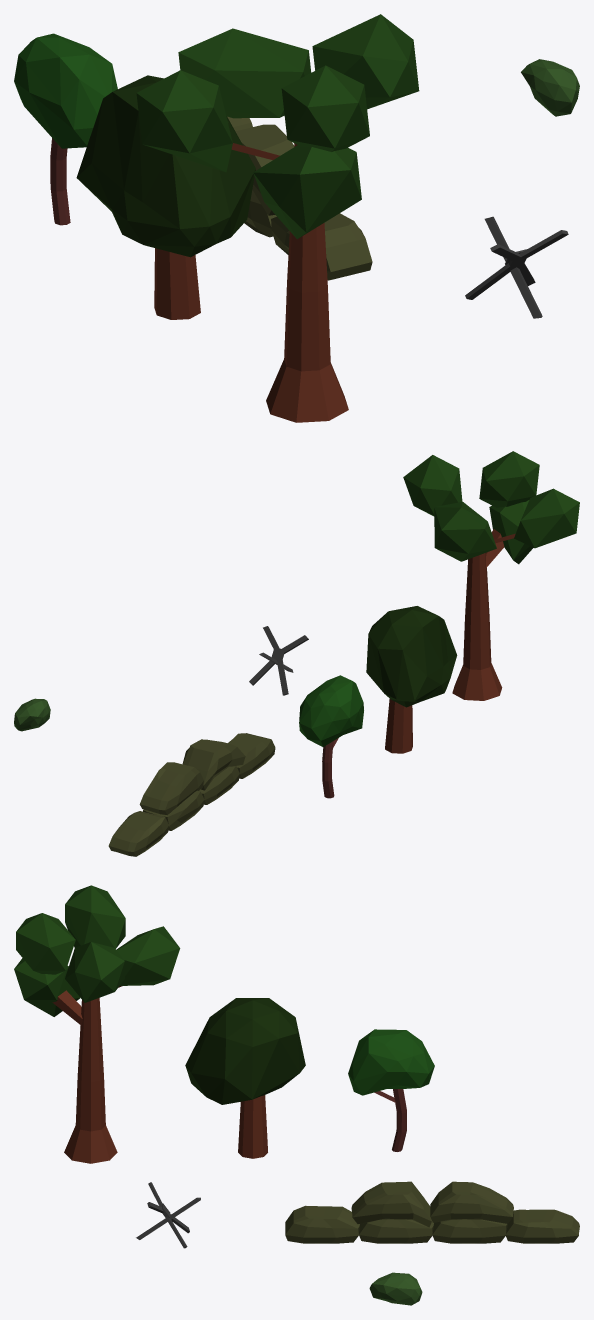
File: enviroo.fbx
3 views of the same model, one above another, from view 1: azimuth 30°, elevation 25°; view 2: azimuth 150°, elevation 25°; view 3: azimuth 270°, elevation 25° (orthographic). The views are drawn at different scales.
Parts seen in each view (by area): view 1: tree3, tree2, tree1, bag with sand, jezyk, krzak; view 2: tree3, bag with sand, tree2, tree1, jezyk, krzak; view 3: tree3, bag with sand, tree2, tree1, krzak, jezyk.
Part boxes in pixels (x1=…): tree3: x1=136, y1=14, x2=419, y2=422; tree2: x1=76, y1=75, x2=255, y2=319; tree1: x1=14, y1=33, x2=117, y2=225; bag with sand: x1=227, y1=116, x2=372, y2=280; jezyk: x1=465, y1=216, x2=568, y2=318; krzak: x1=521, y1=59, x2=579, y2=116; tree3: x1=403, y1=451, x2=579, y2=700; bag with sand: x1=108, y1=733, x2=275, y2=856; tree2: x1=366, y1=606, x2=457, y2=753; tree1: x1=299, y1=675, x2=363, y2=798; jezyk: x1=249, y1=626, x2=308, y2=695; krzak: x1=14, y1=698, x2=50, y2=731; tree3: x1=14, y1=885, x2=180, y2=1163; bag with sand: x1=285, y1=1181, x2=579, y2=1243; tree2: x1=185, y1=998, x2=305, y2=1158; tree1: x1=348, y1=1029, x2=434, y2=1151; krzak: x1=369, y1=1272, x2=422, y2=1305; jezyk: x1=136, y1=1182, x2=200, y2=1248.
Bounding box in the file's own units: 3225 × 1881 × 3750.
